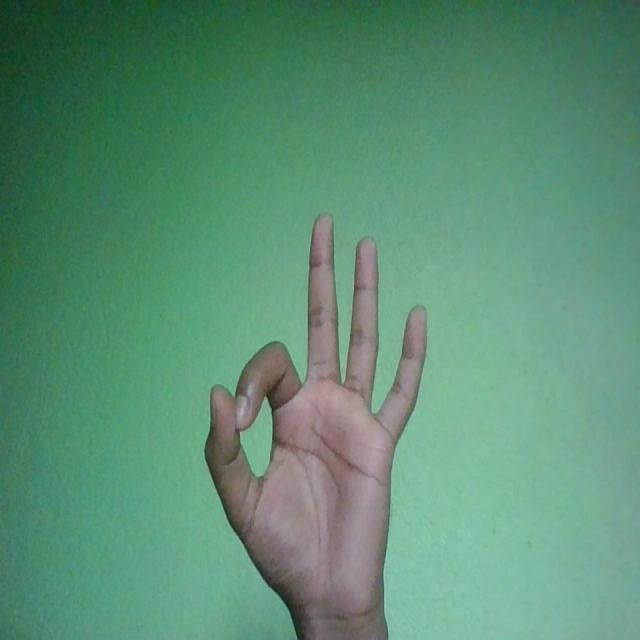Rock On: (205, 213, 427, 632)
